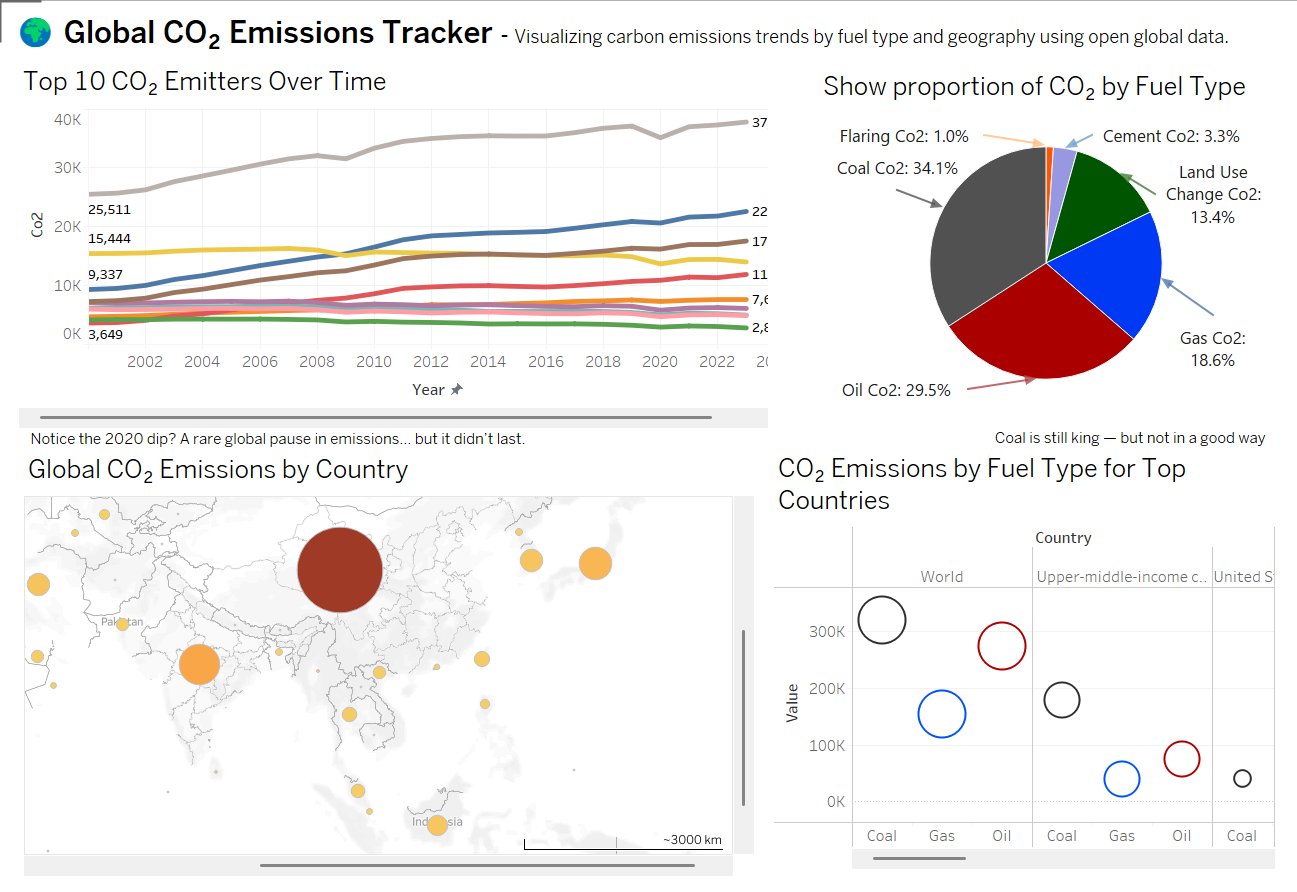

The page's visual inventory and layout, read from the dashboard file:
{"tool":"tableau","page":{"name":"Dashboard 1","canvas":[1300,900],"ordinal":0},"visuals":[{"type":"worksheet","title":"Sheet 3","mark":"Shape","cols":["country"],"box":[8,8,562,884]},{"type":"worksheet","title":"Sheet 4","mark":"Pie","box":[570,8,281,884]},{"type":"worksheet","title":"Sheet 1","mark":"Automatic","rows":["co2"],"cols":["year"],"box":[851,8,281,884]},{"type":"legend","title":"Sheet 1","param":"[federated.0r7yjg30pzv8v41co4kur0odjd9e].[none:country:nk]","box":[1132,8,160,134.5]},{"type":"worksheet","title":"Sheet 2","mark":"Automatic","box":[1132,142.5,160,134.5]},{"type":"filter","title":"Sheet 2","param":"[federated.0r7yjg30pzv8v41co4kur0odjd9e].[none:year:qk]","box":[1132,277,160,73]},{"type":"legend","title":"Sheet 2","param":"[federated.0r7yjg30pzv8v41co4kur0odjd9e].[sum:co2:qk]","box":[1132,350,160,134.5]},{"type":"legend","title":"Sheet 2","param":"[federated.0r7yjg30pzv8v41co4kur0odjd9e].[sum:co2:qk]","box":[1132,484.5,160,73]},{"type":"legend","title":"Sheet 3","param":"[federated.0r7yjg30pzv8v41co4kur0odjd9e].[:Measure Names]","box":[1132,557.5,160,93]},{"type":"legend","title":"Sheet 4","param":"[federated.0r7yjg30pzv8v41co4kur0odjd9e (copy)].[none:Pivot Field Names:nk]","box":[1132,650.5,160,134.5]},{"type":"legend","title":"Sheet 4","param":"[federated.0r7yjg30pzv8v41co4kur0odjd9e (copy)].[sum:Pivot Field Values:qk]","box":[1132,785,160,51]},{"type":"highlighter","title":"Sheet 4","param":"[federated.0r7yjg30pzv8v41co4kur0odjd9e (copy)].[none:Pivot Field Names:nk]","box":[1132,836,160,56]}]}

Visuals, with their boxes in screenshot pixels (x1, y1, x2, y2), scaled from the page's 1300x900 canvas onto the 1297x892 screenshot:
"Sheet 3" worksheet (Shape marks): 8:8:569:884
"Sheet 4" worksheet (Pie marks): 569:8:849:884
"Sheet 1" worksheet: 849:8:1129:884
"Sheet 1" legend: 1129:8:1289:141
"Sheet 2" worksheet: 1129:141:1289:275
"Sheet 2" filter: 1129:275:1289:347
"Sheet 2" legend: 1129:347:1289:480
"Sheet 2" legend: 1129:480:1289:553
"Sheet 3" legend: 1129:553:1289:645
"Sheet 4" legend: 1129:645:1289:778
"Sheet 4" legend: 1129:778:1289:829
"Sheet 4" highlighter: 1129:829:1289:884
